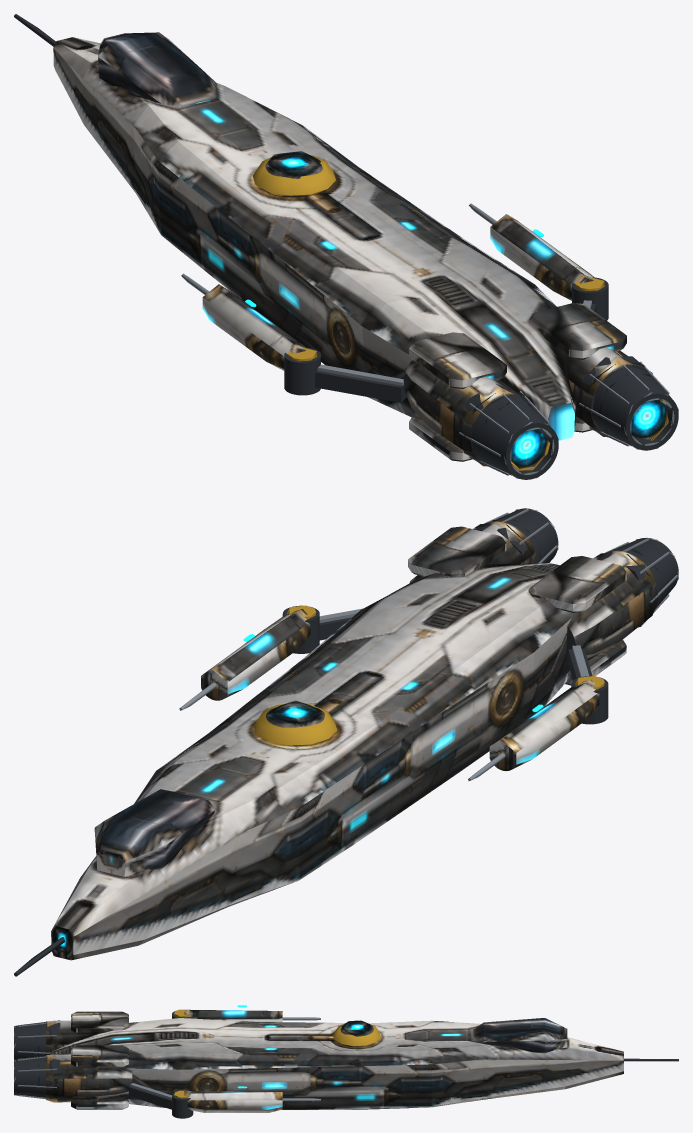
File: scout-lod2.glb
3 views of the same model, one above another, from view 1: azimuth 30°, elevation 25°; view 2: azimuth 150°, elevation 25°; view 3: azimuth 270°, elevation 25° (orthographic). The views are drawn at different scales.
Parts seen in each view (by area): view 1: Static / Reference artwork | titanium, brass, panels and can, Static / Structural frames | gunmetal, Static / Machined titanium edges, Static / Warm brass collars; view 2: Static / Reference artwork | titanium, brass, panels and can, Static / Structural frames | gunmetal, Static / Warm brass collars, Static / Machined titanium edges, Static / Ventral armor | dedicated bottom-view reference; view 3: Static / Reference artwork | titanium, brass, panels and can, Static / Structural frames | gunmetal, Static / Ventral armor | dedicated bottom-view reference, Static / Machined titanium edges, Static / Warm brass collars.
Part boxes in pixels (x1,y1,x2,y2): Static / Reference artwork | titanium, brass, panels and can: (53,32,666,467); Static / Structural frames | gunmetal: (14,14,678,479); Static / Machined titanium edges: (181,203,678,478); Static / Warm brass collars: (252,155,668,470); Static / Reference artwork | titanium, brass, panels and can: (51,521,657,960); Static / Structural frames | gunmetal: (14,508,678,976); Static / Warm brass collars: (253,605,604,745); Static / Machined titanium edges: (179,508,678,780); Static / Ventral armor | dedicated bottom-view reference: (71,552,623,960); Static / Reference artwork | titanium, brass, panels and can: (46,1009,623,1109); Static / Structural frames | gunmetal: (14,1011,678,1118); Static / Ventral armor | dedicated bottom-view reference: (46,1031,623,1112); Static / Machined titanium edges: (14,1017,320,1101); Static / Warm brass collars: (174,1009,380,1098).
Size of the model in its own units: 6.53 by 2.32 by 19.92.
7 materials, 2 textured.
